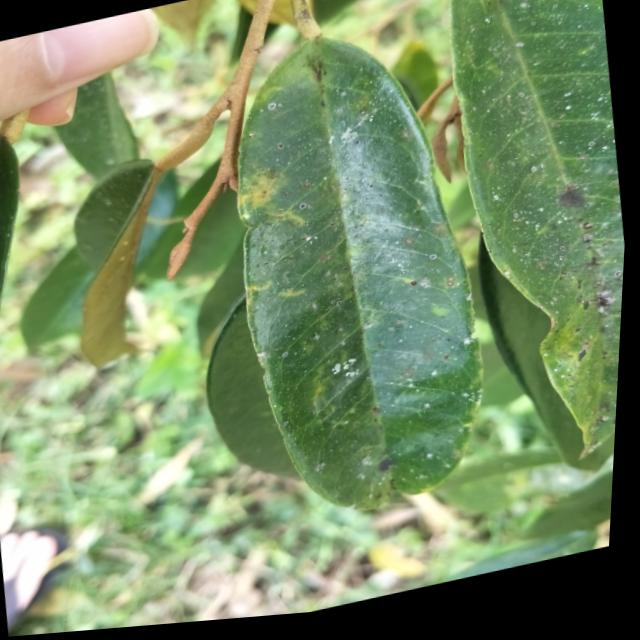Leaf Spot: (207, 12, 522, 504), (452, 0, 640, 453)
